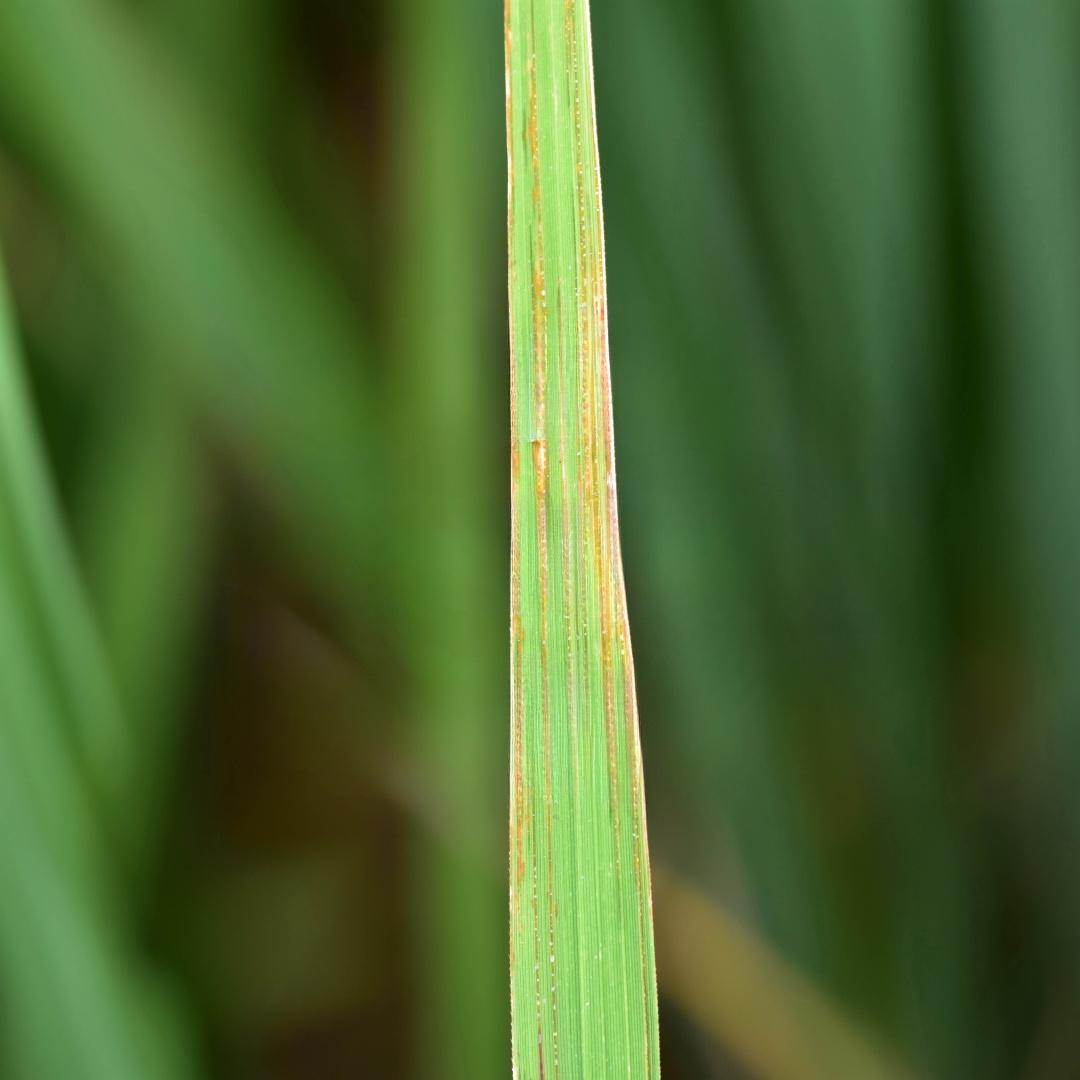BLS: (573, 1, 657, 1079), (528, 1, 559, 1079), (505, 0, 526, 1079), (558, 275, 577, 775), (533, 795, 544, 1079), (564, 0, 574, 112)
LEAF: (505, 0, 659, 1079)
